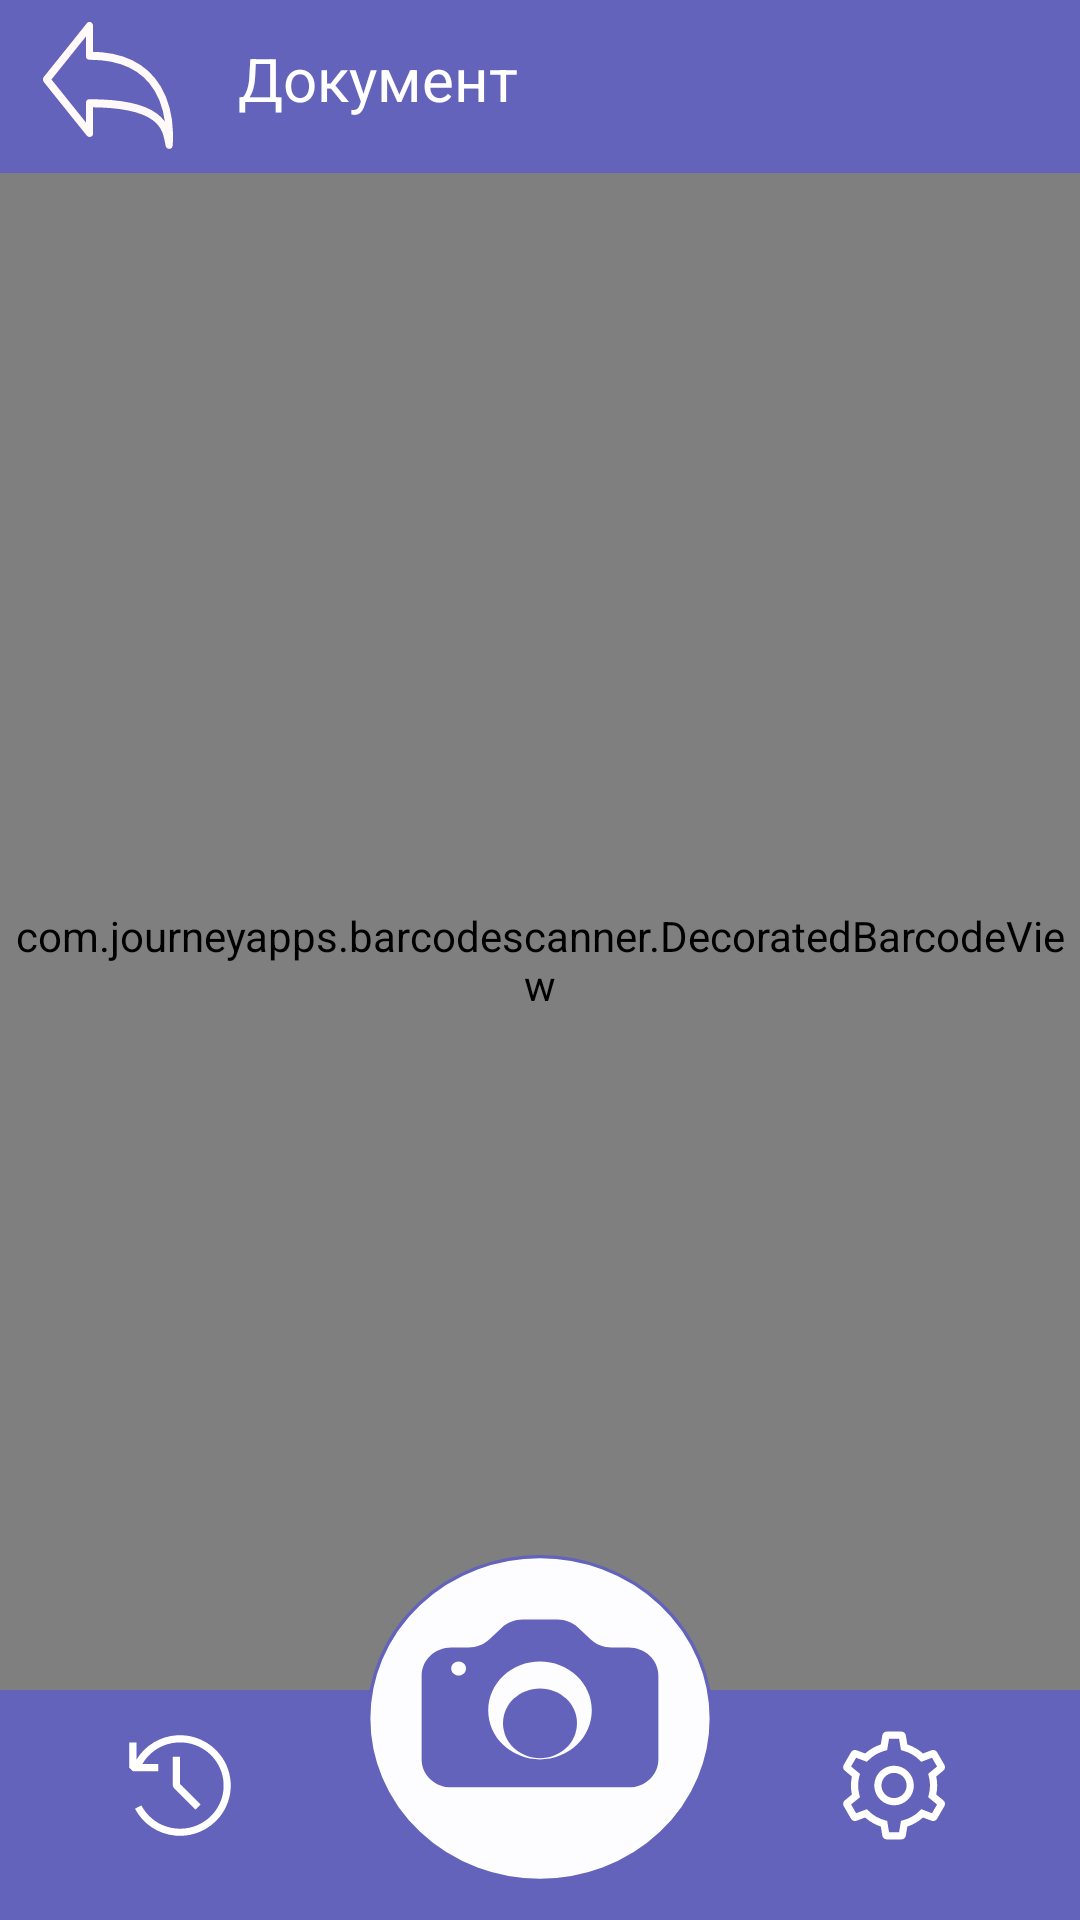

Where to tap for icons on this 1080×1920 app screen, as point (x, y):
cil settings: point (894, 1785)
codicon history: point (180, 1785)
